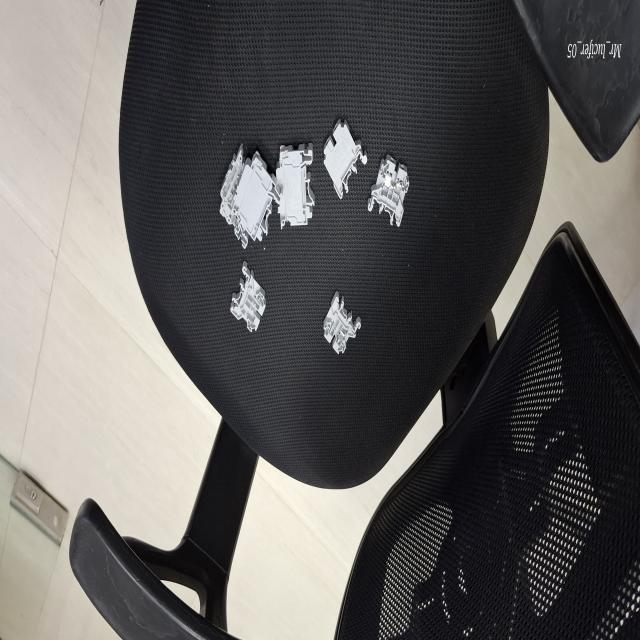Inverted: (321, 114, 374, 206)
Pass: (367, 154, 418, 248)
Reject: (227, 259, 270, 367), (316, 287, 362, 380)
